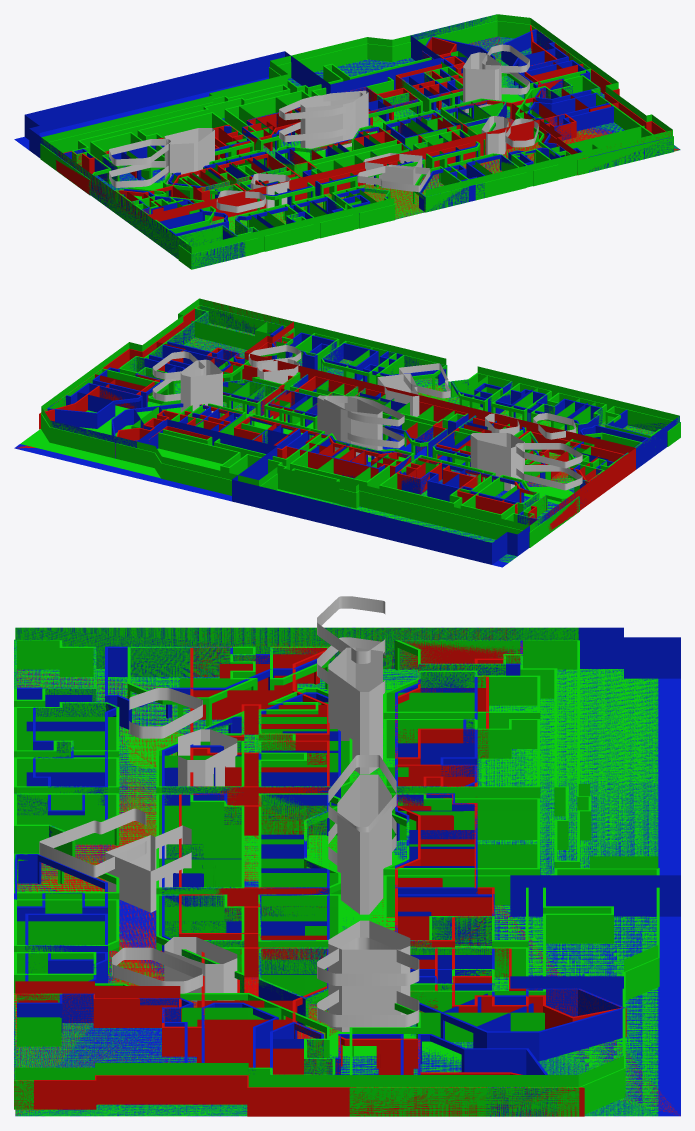
File: DSFDMap.fbx
3 renders of one model, top to bottom at view 1: azimuth 30°, elevation 25°; view 2: azimuth 150°, elevation 25°; view 3: azimuth 270°, elevation 25°, orthographic. The views are drawn at different scales.
Parts seen in each view (by area): view 1: 1f.frame, 2fFloor, 3f_frame, whole, whole.002; view 2: 1f.frame, 2fFloor, 3f_frame, whole, whole.002; view 3: 1f.frame, 2fFloor, 3f_frame, whole, whole.002.
Boxes of the visible parts, box(x1,y1,x2,y2) form: 1f.frame: box(40, 14, 680, 269); 2fFloor: box(14, 14, 679, 268); 3f_frame: box(55, 25, 679, 232); whole: box(164, 52, 508, 208); whole.002: box(109, 44, 538, 212); 1f.frame: box(20, 298, 680, 562); 2fFloor: box(14, 306, 680, 567); 3f_frame: box(17, 300, 653, 530); whole: box(180, 358, 524, 491); whole.002: box(152, 345, 582, 490); 1f.frame: box(14, 627, 659, 1116); 2fFloor: box(14, 627, 680, 1116); 3f_frame: box(14, 627, 680, 1116); whole: box(105, 647, 410, 1031); whole.002: box(39, 596, 419, 1027).
Size of the model in its own units: 23313 by 2000 by 14656.
